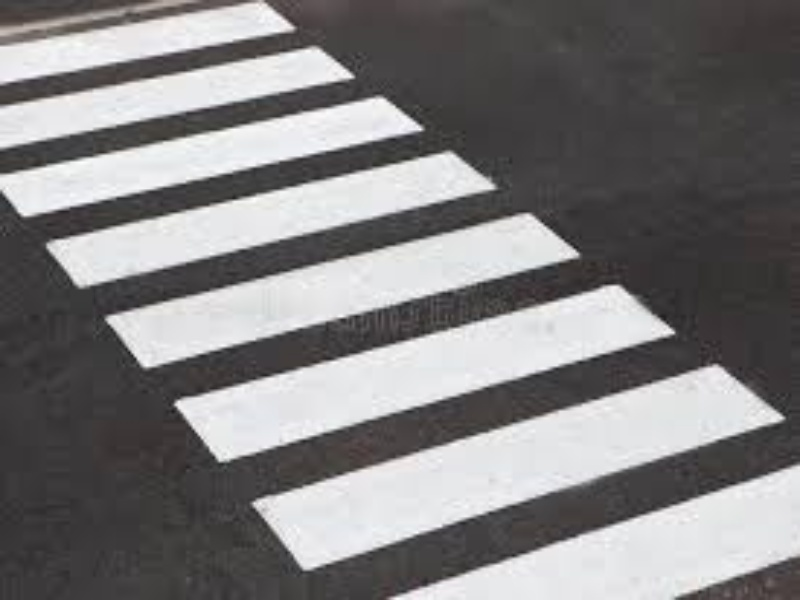zebra cross: (1, 4, 796, 597)
